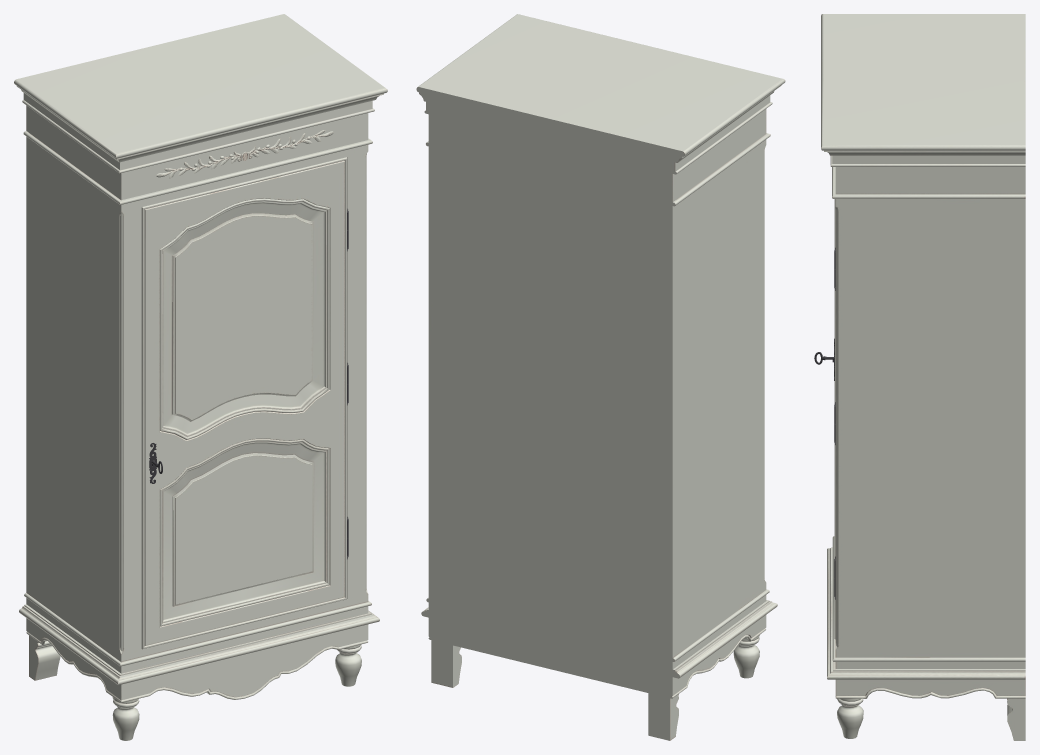
Rendered from example147.gltf.
3 views of the same model, side by side, from view 1: azimuth 30°, elevation 25°; view 2: azimuth 150°, elevation 25°; view 3: azimuth 270°, elevation 25° (orthographic).
Bounding box in the file's own units: 92.44 × 195 × 61.94.
2 materials, 2 textured.
